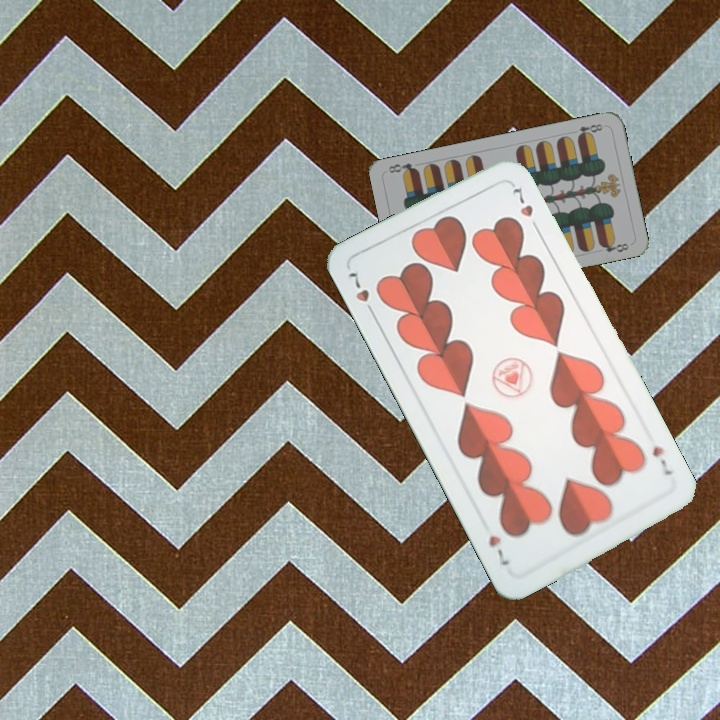E8: (573, 120, 605, 141)
H7: (343, 266, 379, 320), (648, 442, 675, 478)
